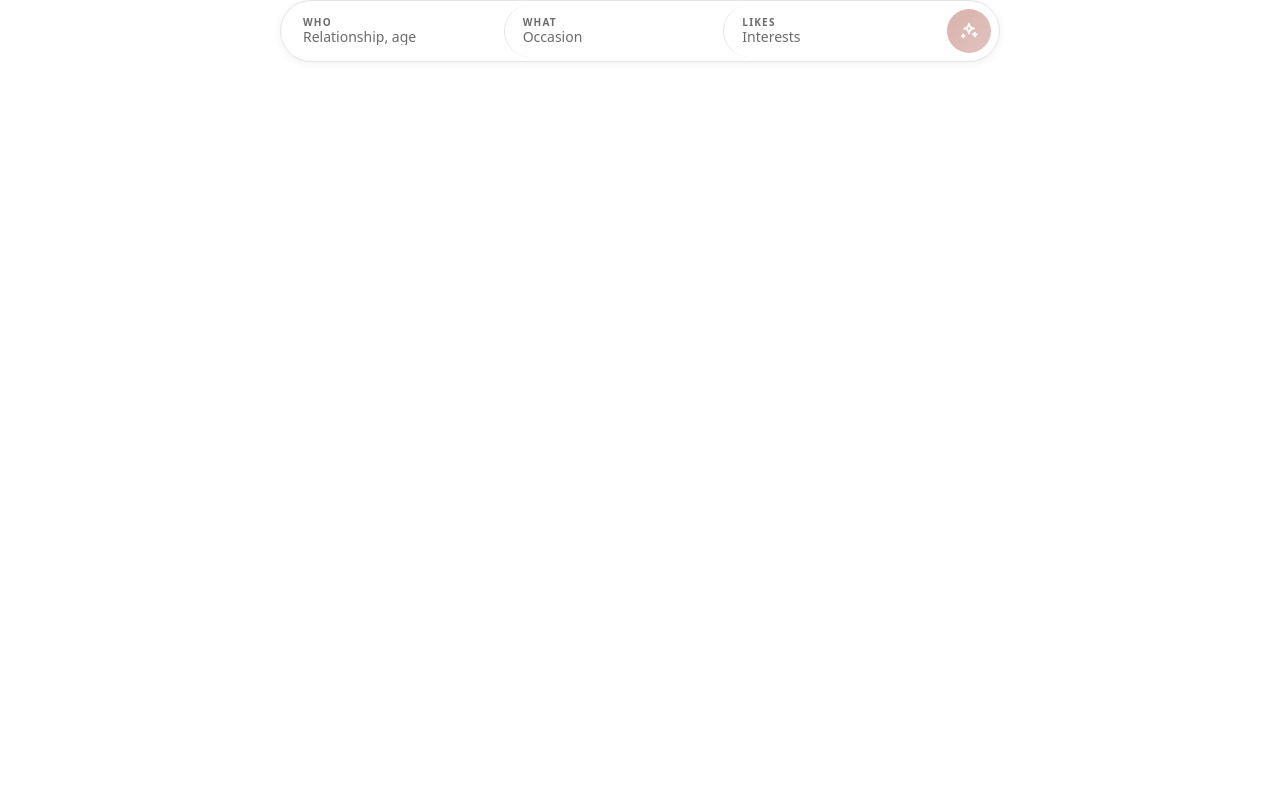
Test: SearchPill › clears WHO via the X button
The image size is (1280, 800).
Click the button "Who Relationship, age" at (394, 31), box [285,5,504,57]
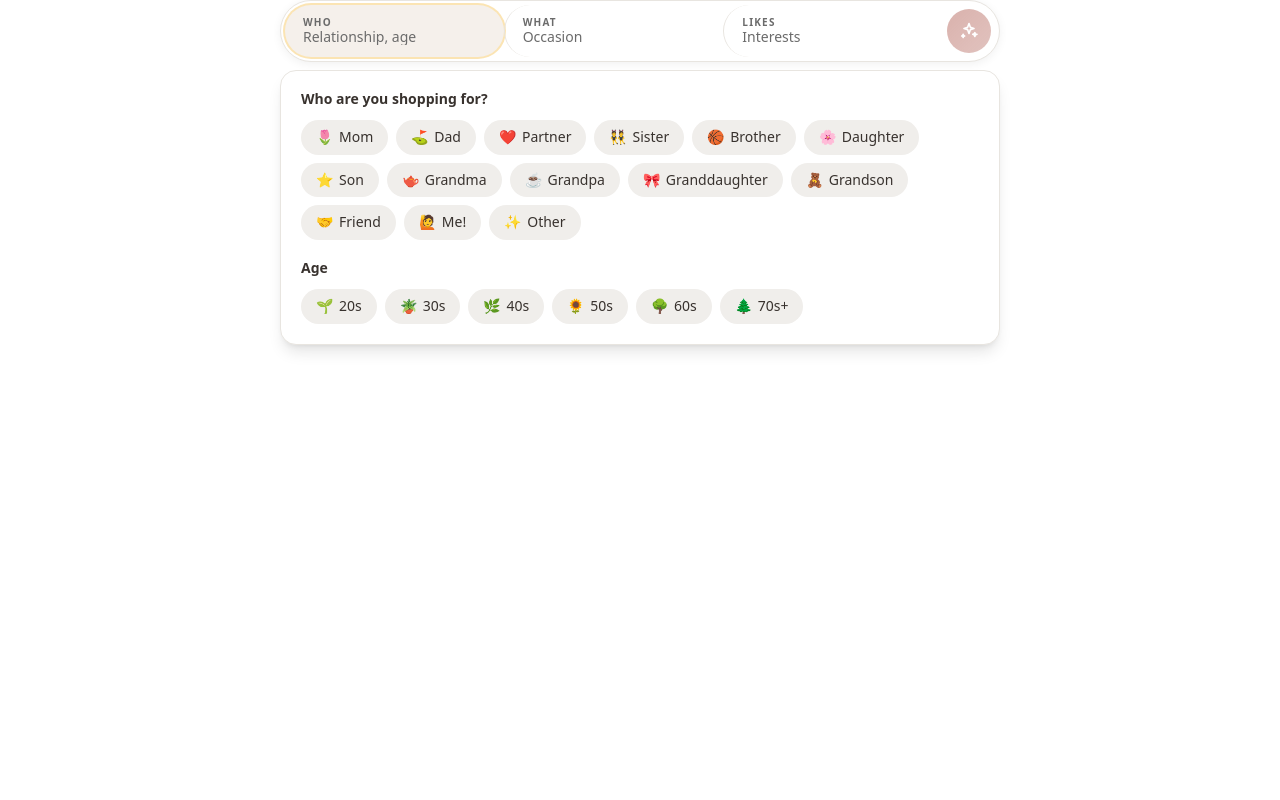
Click the button "🌷 Mom" at (345, 137), box [301,120,388,155]
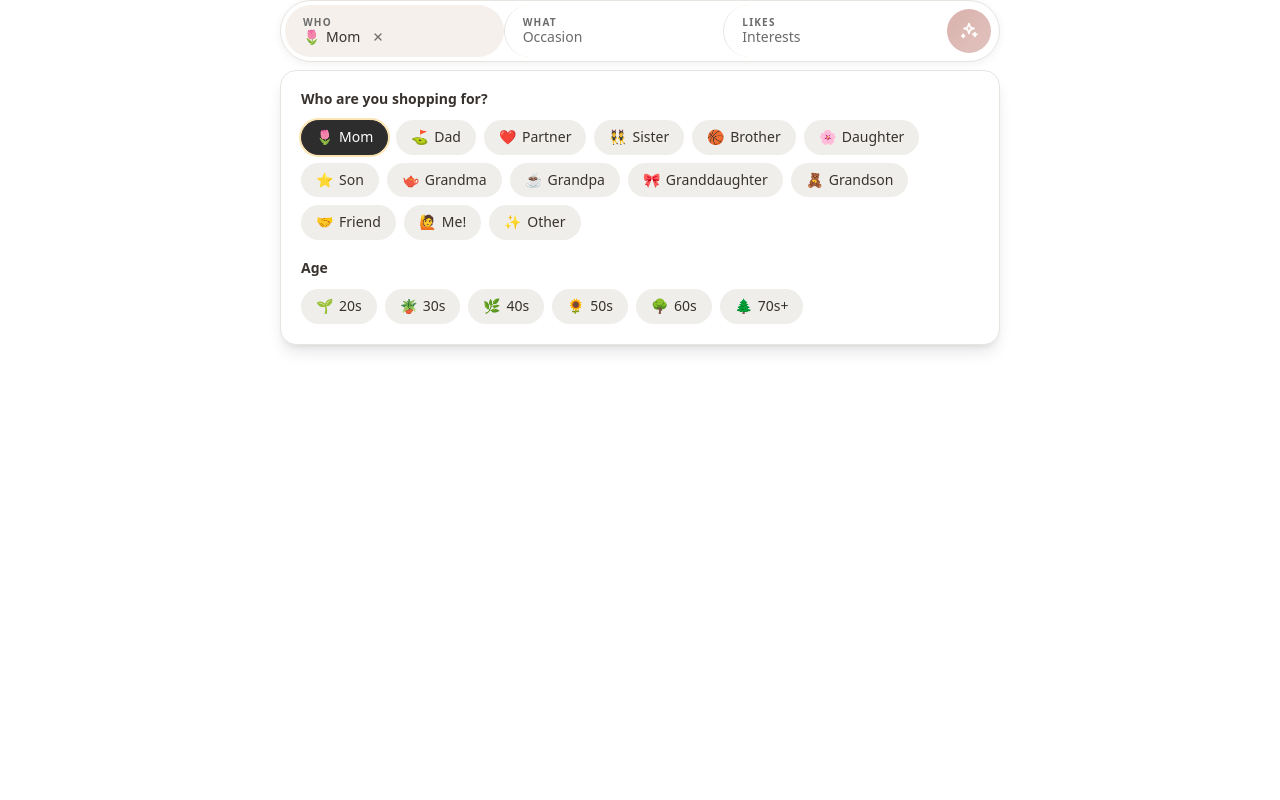
Click the button "🪴 30s" at (423, 306), box [385,289,460,324]
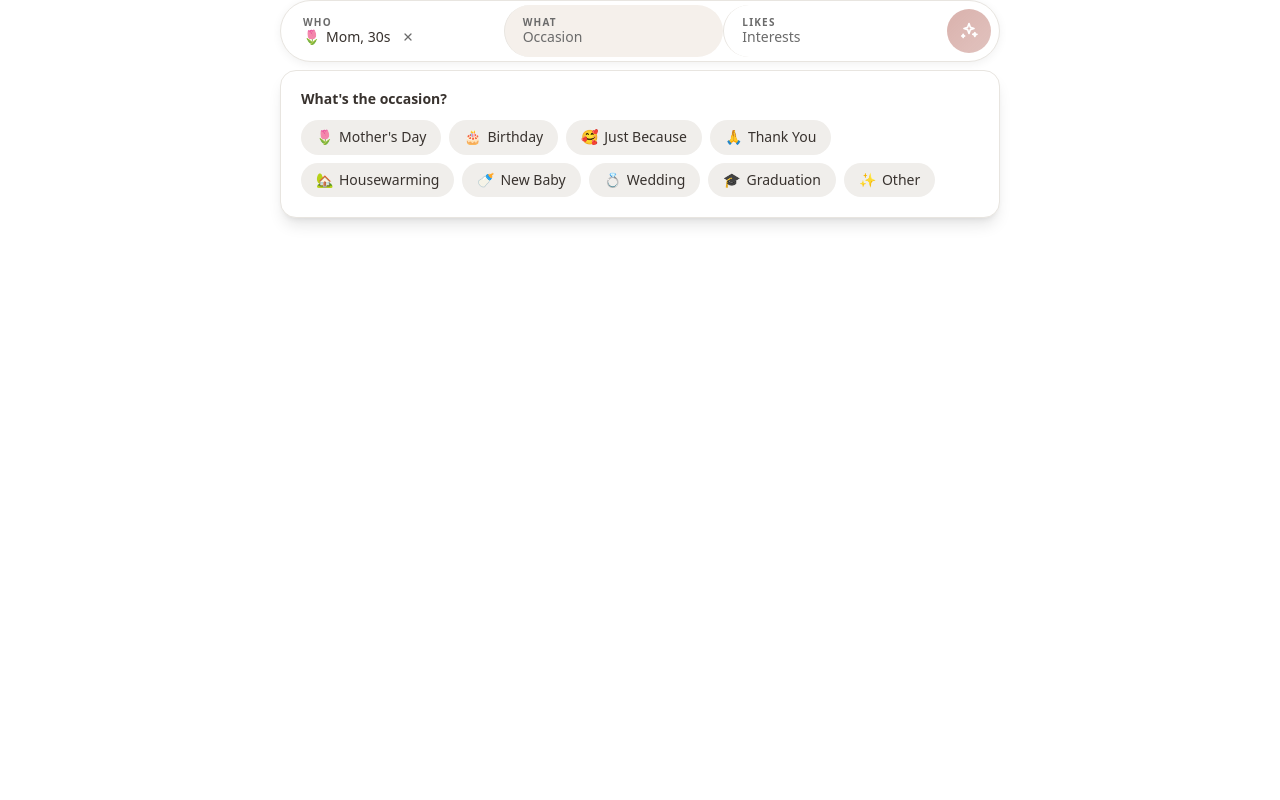
Click the button named "clear who" at (408, 37), box [400,29,416,45]
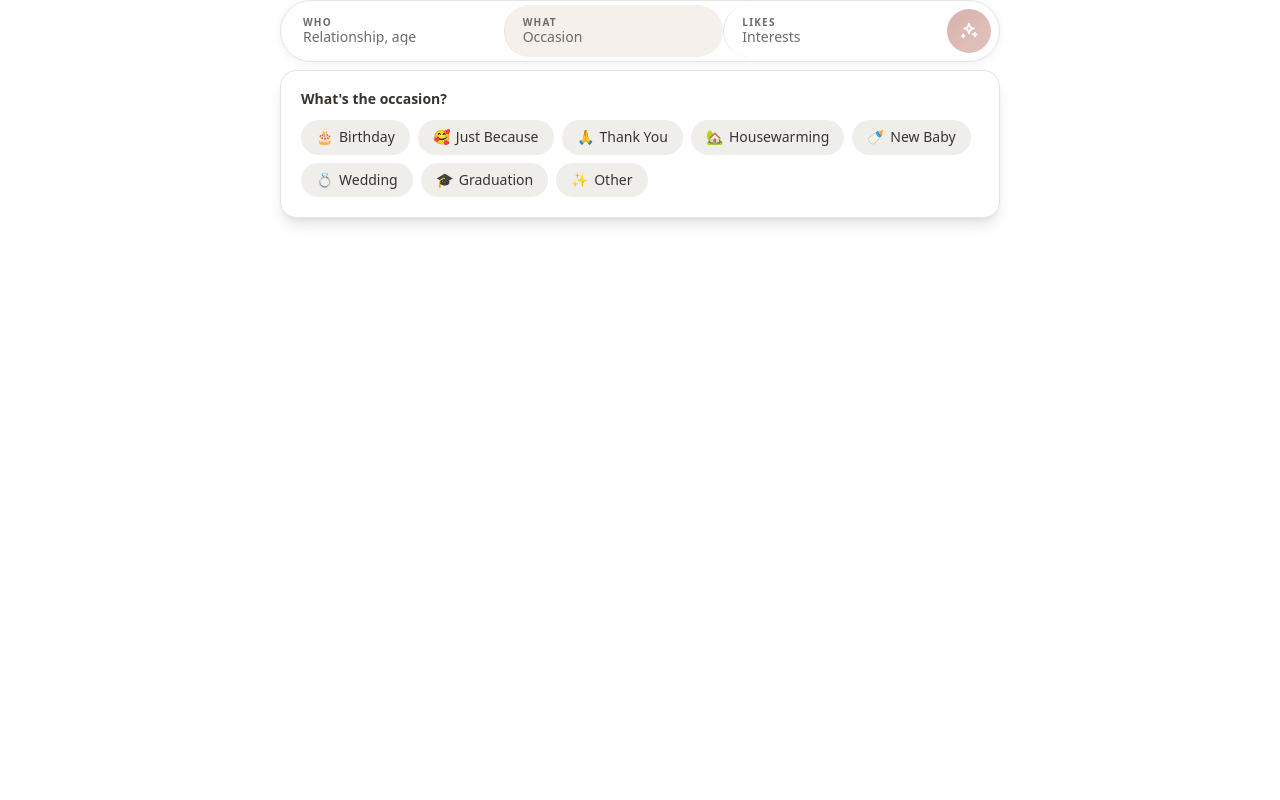
Expected: the text "Relationship, age" is shown, [303,29,416,45]
